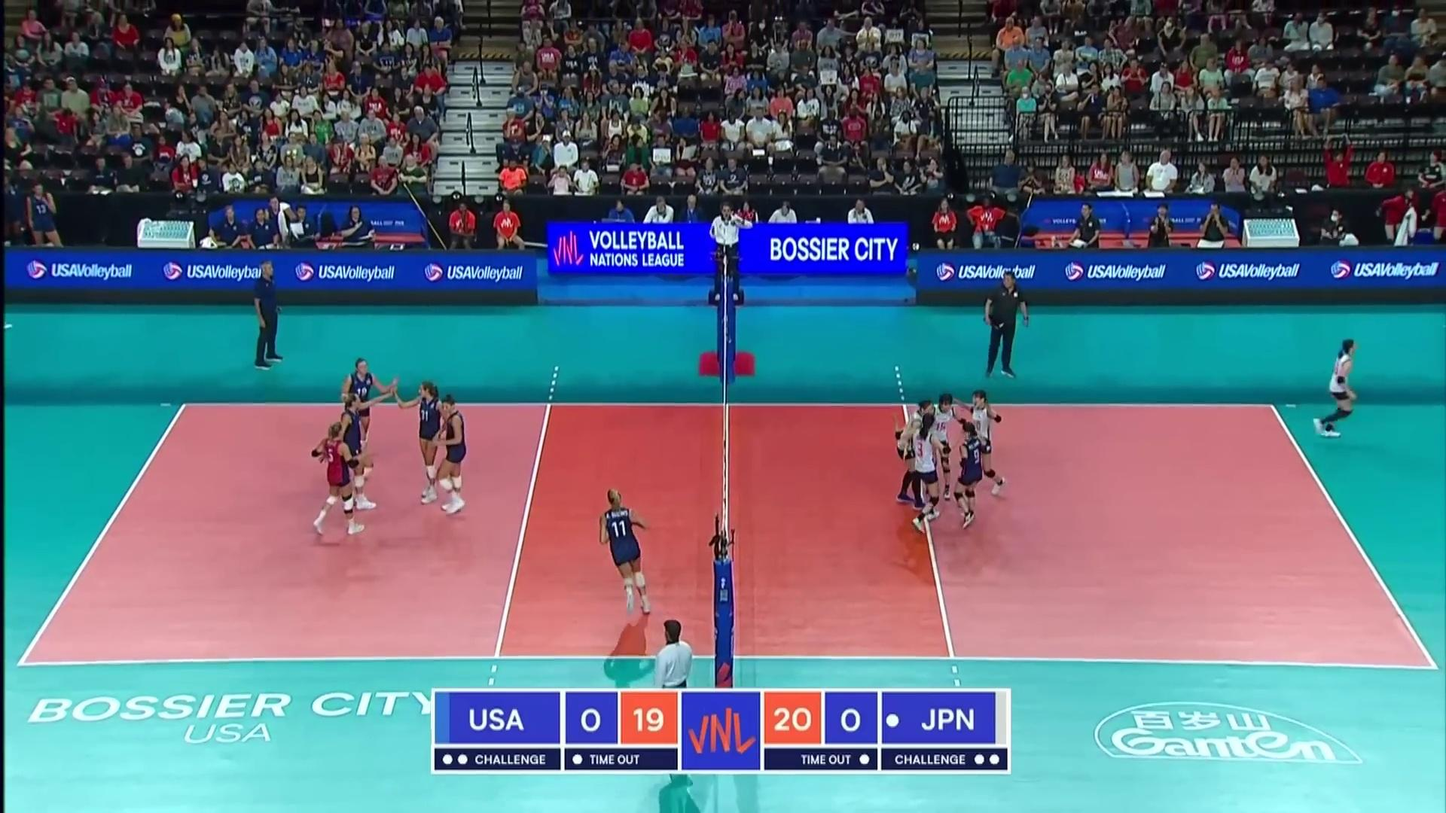player: (598, 485, 654, 615), (399, 378, 454, 510), (310, 422, 366, 543), (332, 392, 389, 507), (905, 412, 960, 531), (952, 388, 1009, 495), (342, 359, 395, 472), (915, 391, 964, 501), (1310, 337, 1358, 438), (430, 396, 469, 520), (894, 401, 937, 508), (953, 424, 986, 526)
refree: (651, 620, 695, 772), (709, 206, 751, 300)
